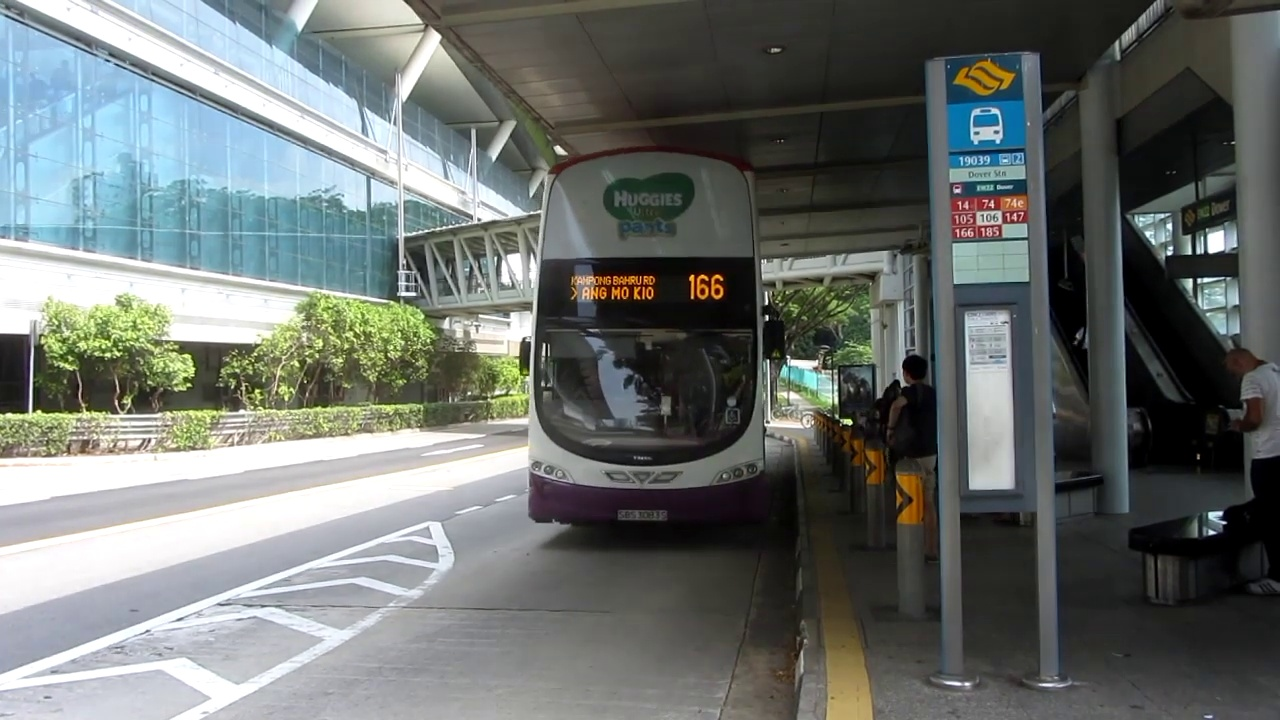bus panel: (566, 270, 730, 306)
